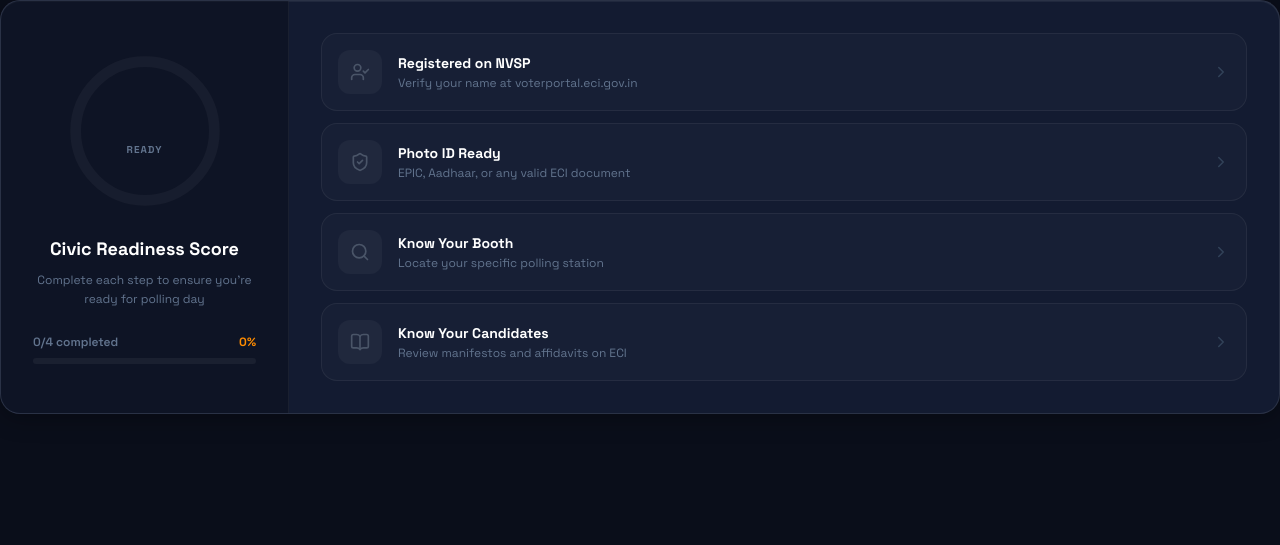
Scenario: VoterReadiness Component › shows trophy when all tasks are complete
Click the button that starts with "Registered on NVSP". click: (360, 72)
box: [321,33,1247,111]
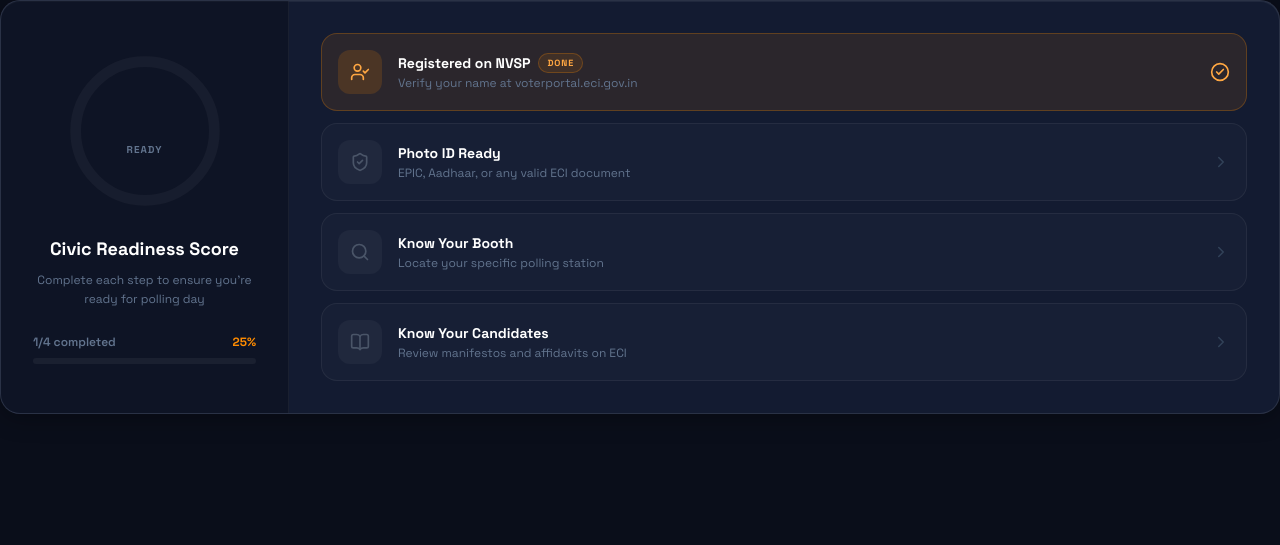
Click the button "Photo ID Ready EPIC, Aadhaar, or any valid ECI document". click: (360, 162)
box: [321,123,1247,201]
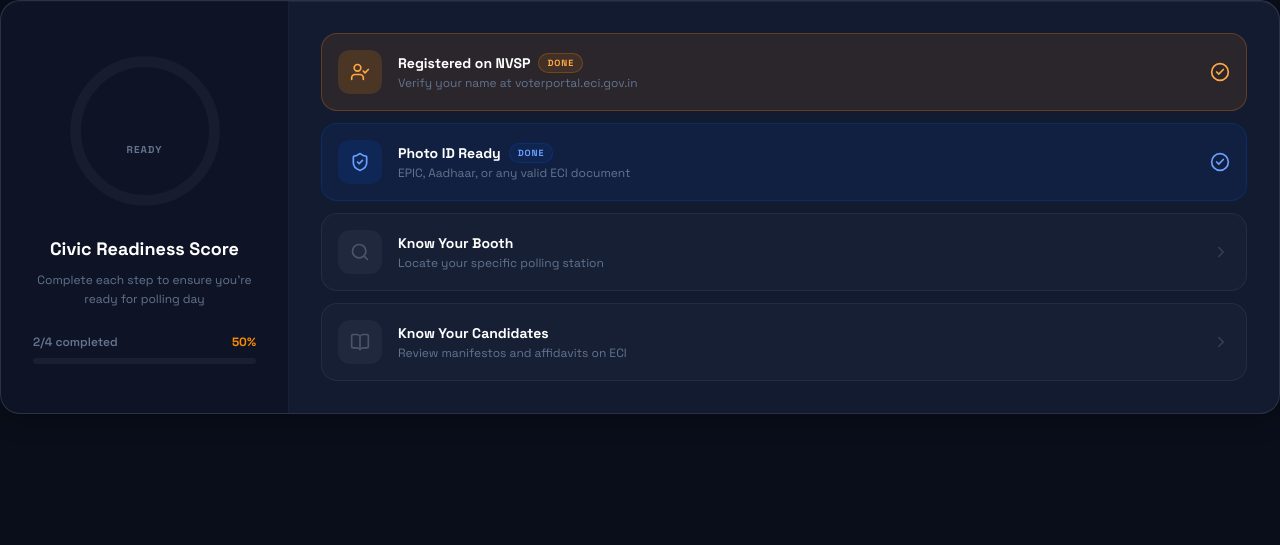
Click the button "Know Your Booth Locate your specific polling station". click: (360, 252)
box: [321,213,1247,291]
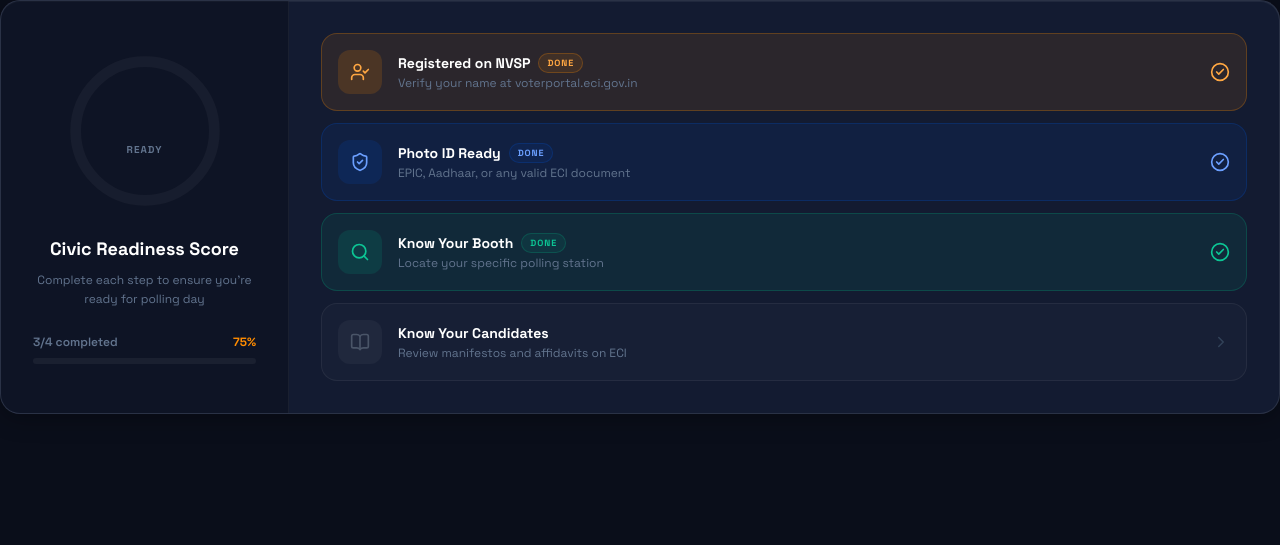
Click the button "Know Your Candidates Review manifestos and affidavits on ECI". click: (360, 342)
box: [321,303,1247,381]
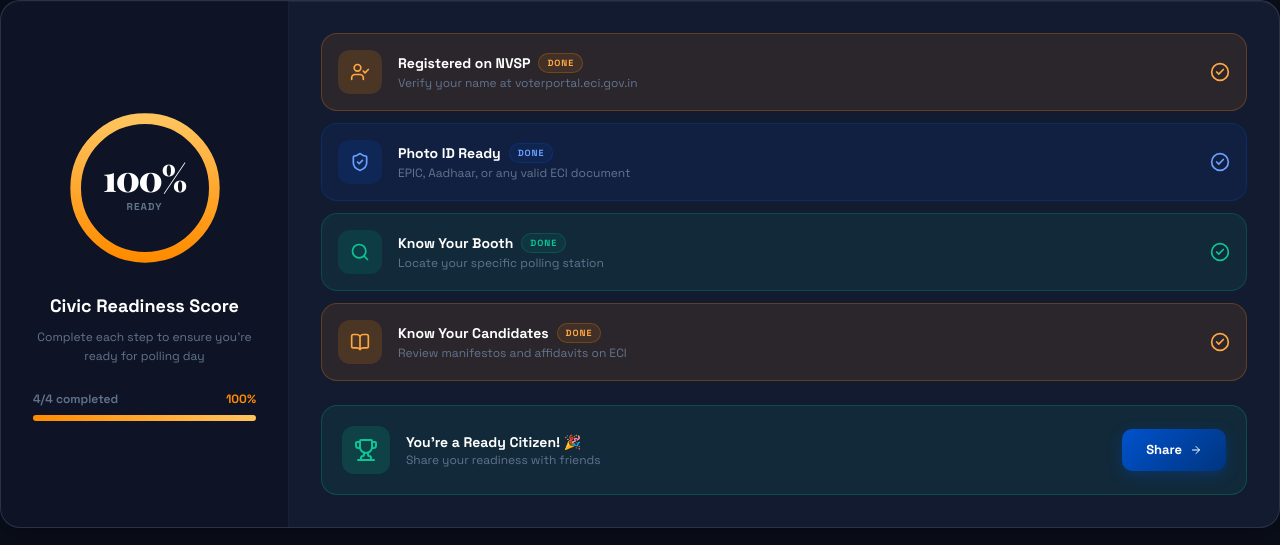
Expected: the 1st text "100%" is shown, [103,159,186,195]
Expected: the text "You're a Ready Citizen! 🎉" is shown, [406,432,601,452]
